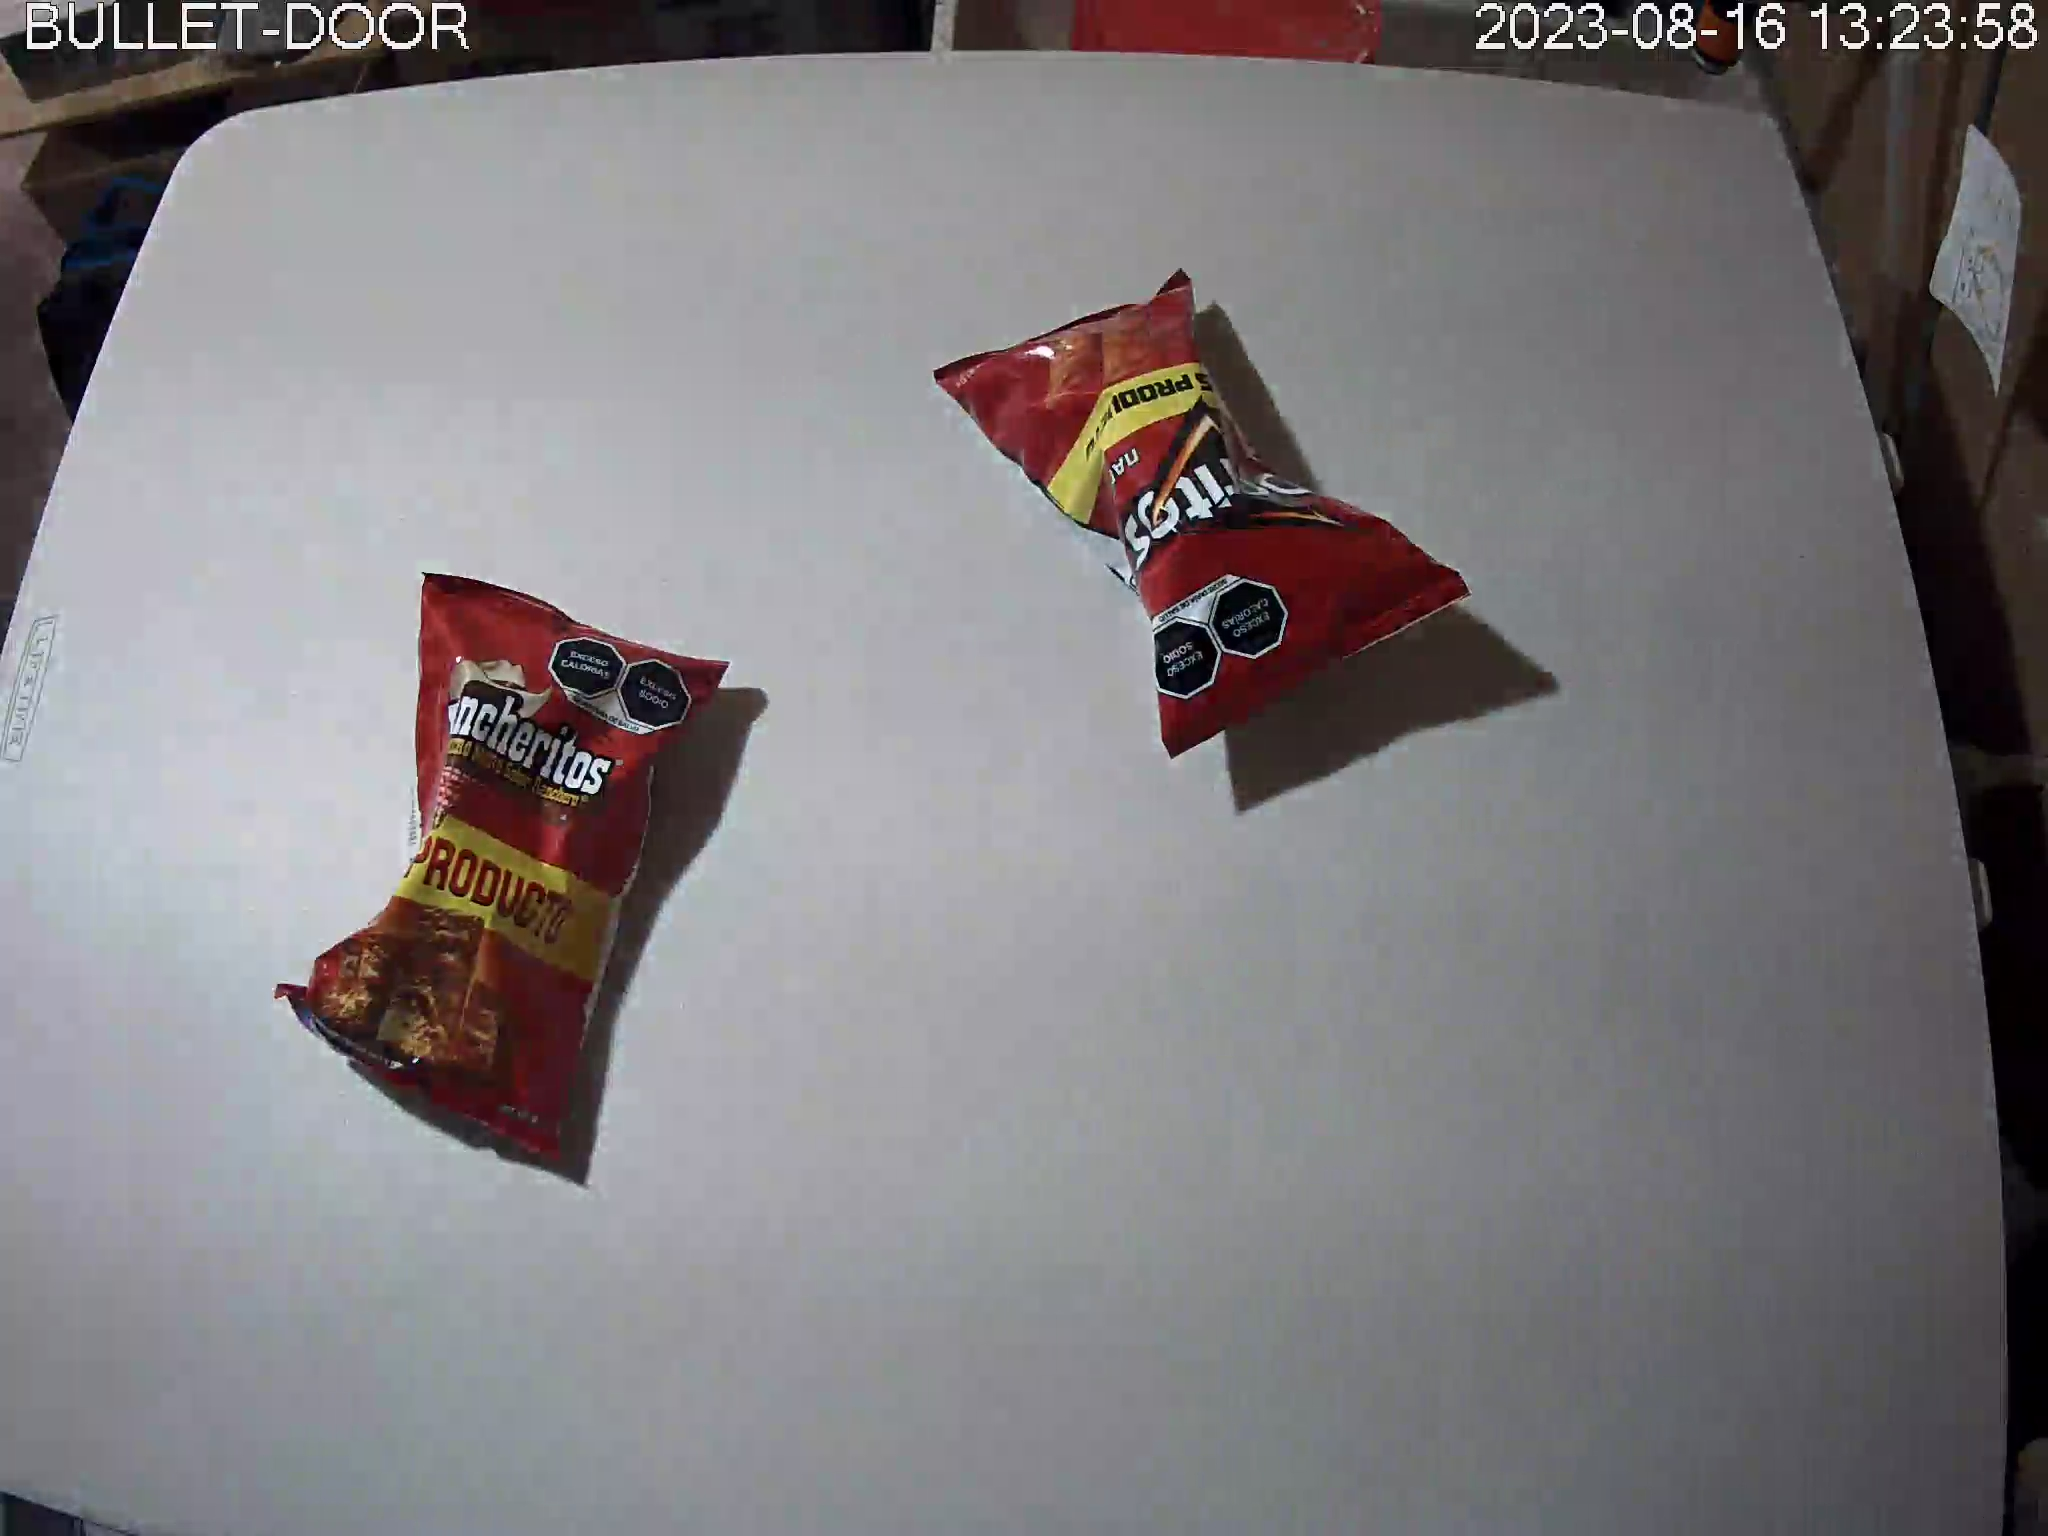DoritosN_61_F: (934, 266, 1472, 758)
Rancheritos_58_F: (276, 571, 732, 1170)
